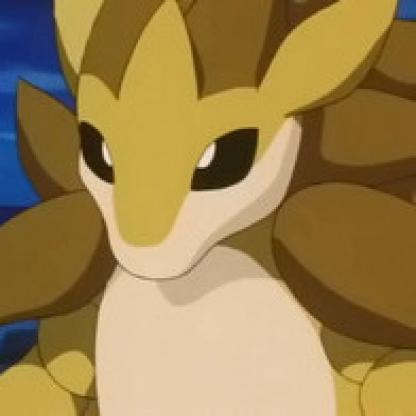Sandslash: (1, 1, 415, 415)
